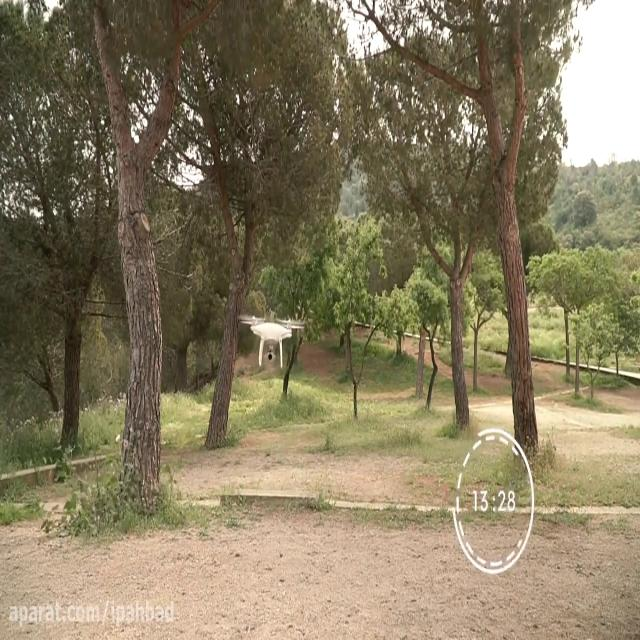drone: (238, 308, 306, 366)
